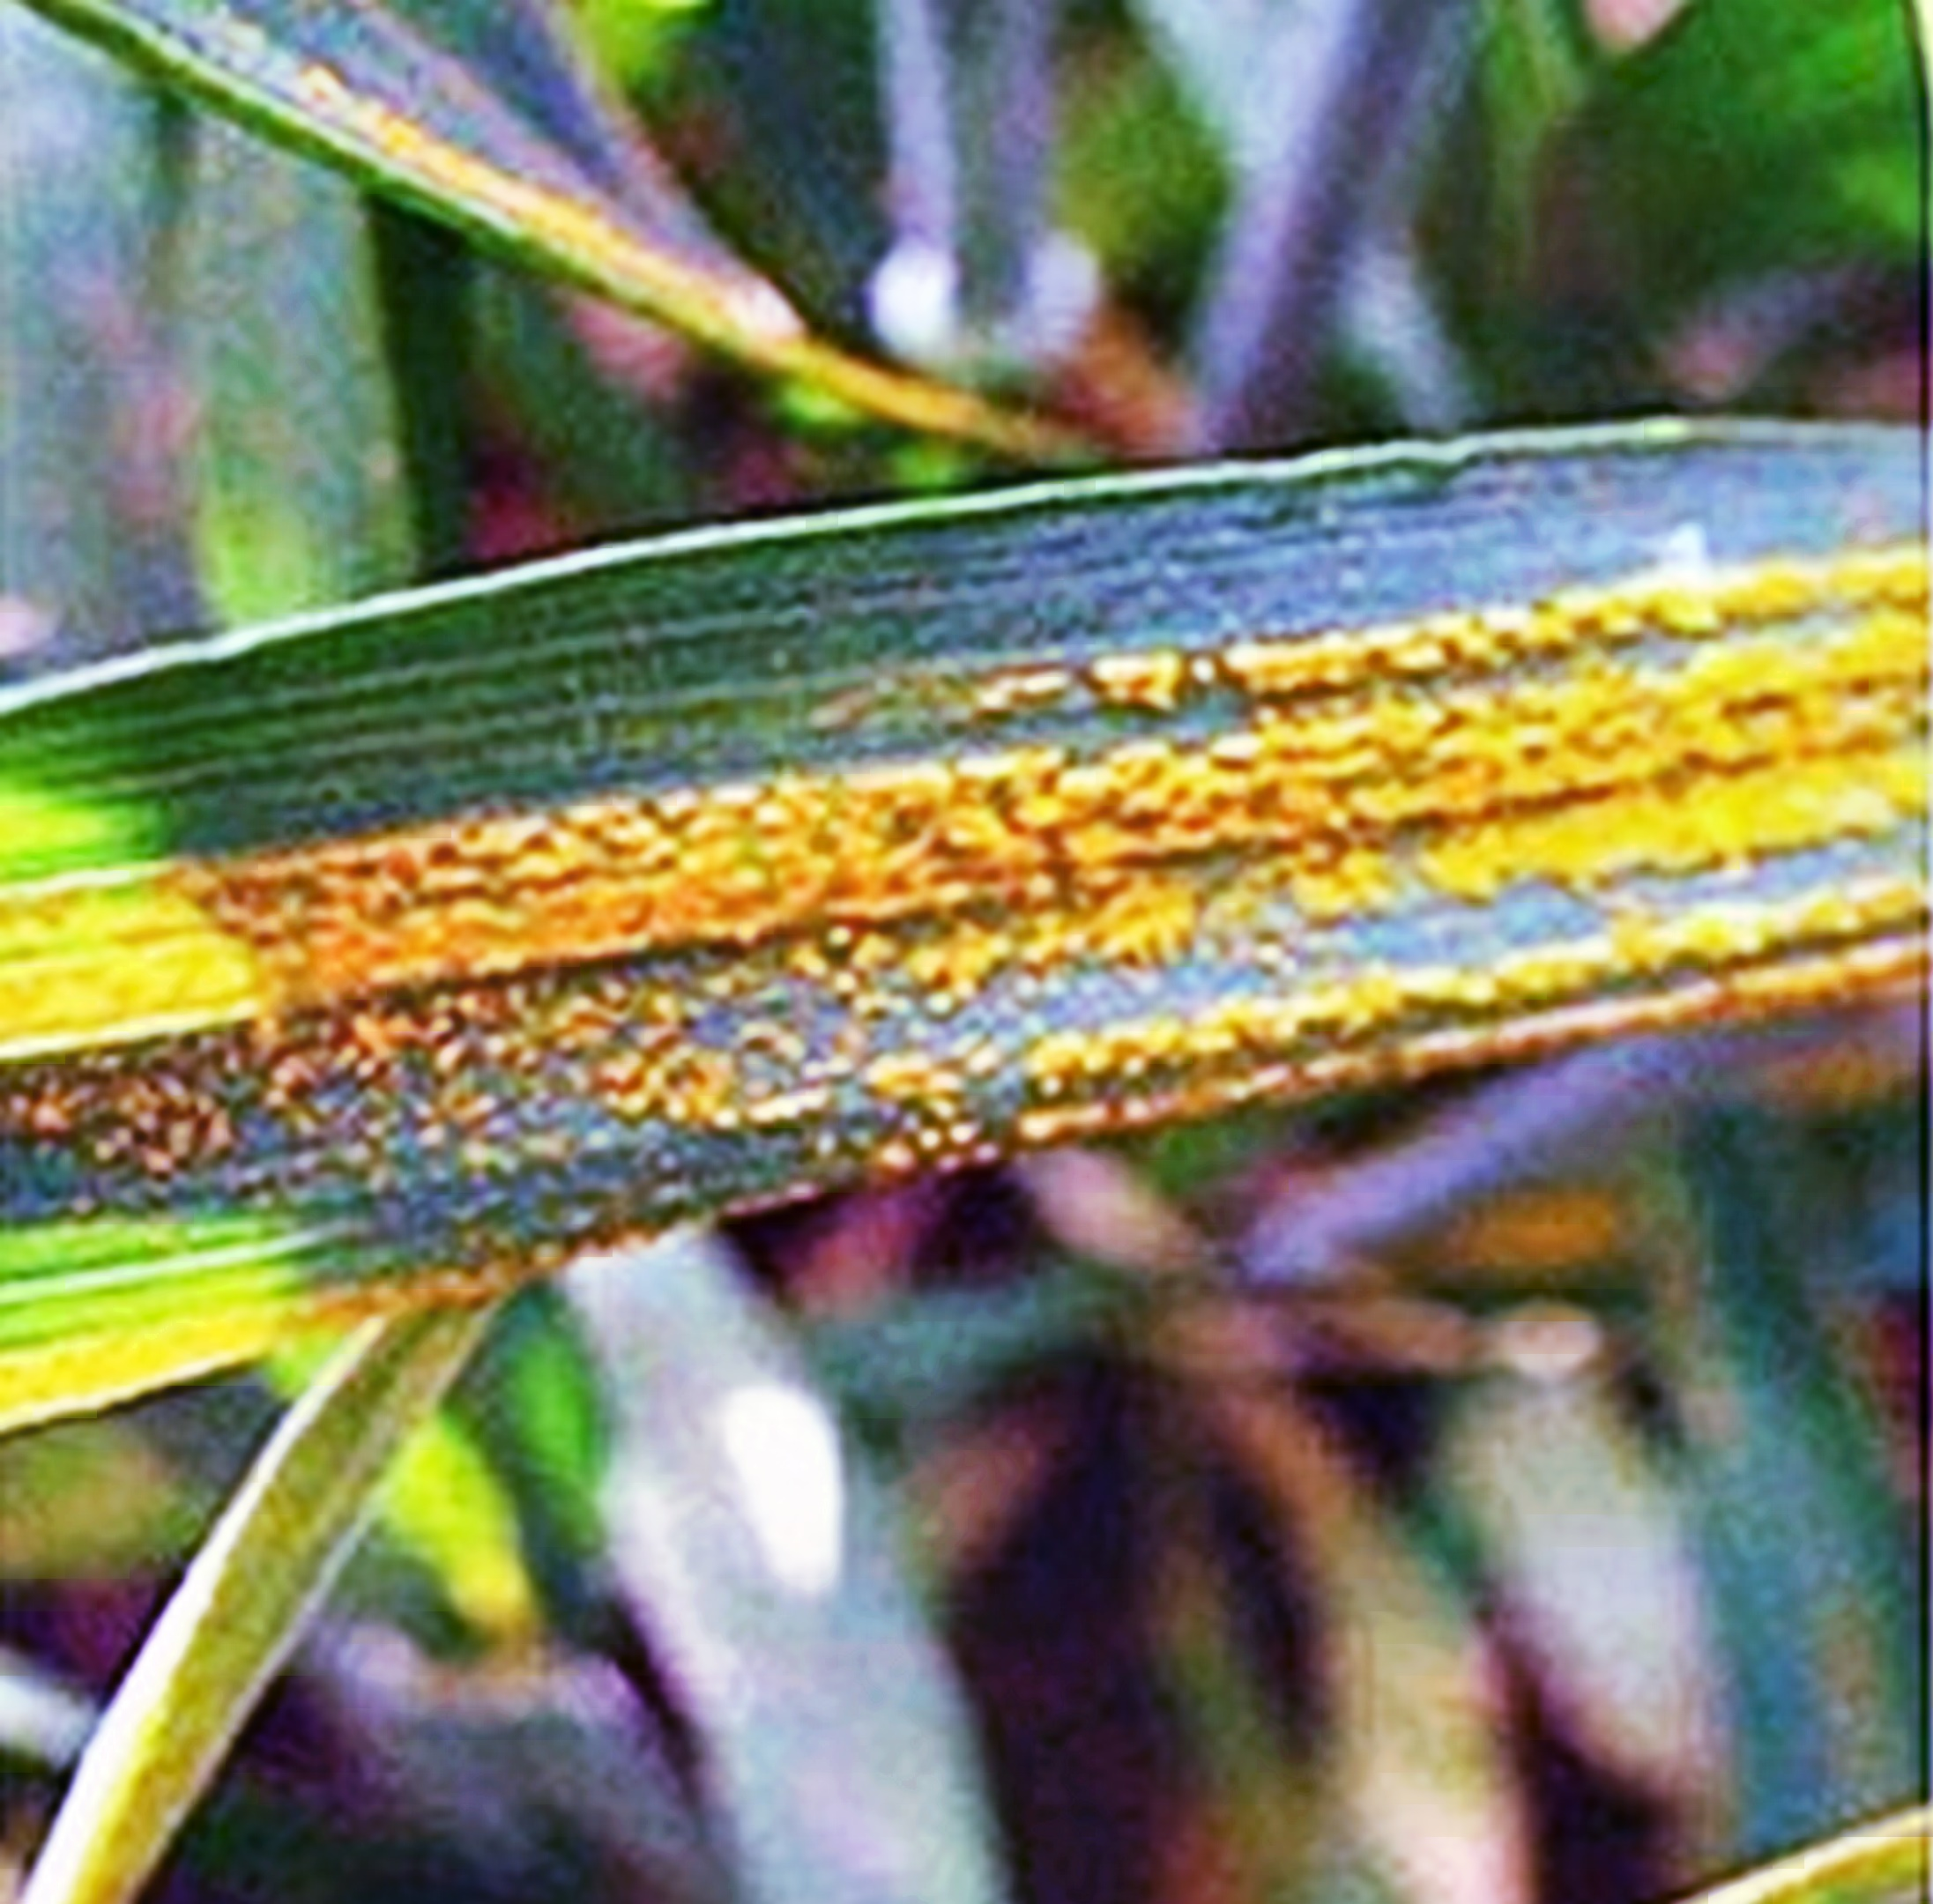Leaf Rust: (148, 525, 1865, 1318)
